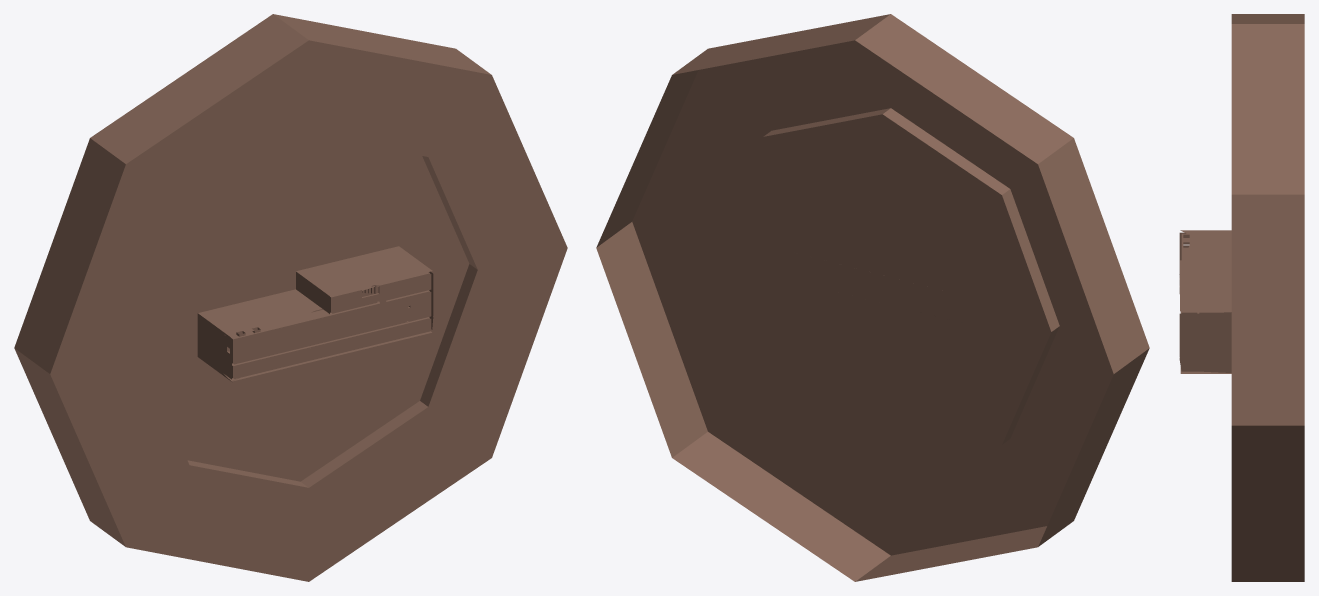
Rendered from debug_0005_col.obj.
3 views of the same model, side by side, from view 1: azimuth 30°, elevation 25°; view 2: azimuth 150°, elevation 25°; view 3: azimuth 270°, elevation 25° (orthographic).
Parts seen in each view (by area): view 1: Cube.017_Cube.034; view 2: Cube.017_Cube.034; view 3: Cube.017_Cube.034.
Part boxes in pixels (x1,y1,x2,y2): Cube.017_Cube.034: (14,14,567,581); Cube.017_Cube.034: (596,14,1149,581); Cube.017_Cube.034: (1179,14,1304,581).
Size of the model in its own units: 2347 by 2347 by 489.
